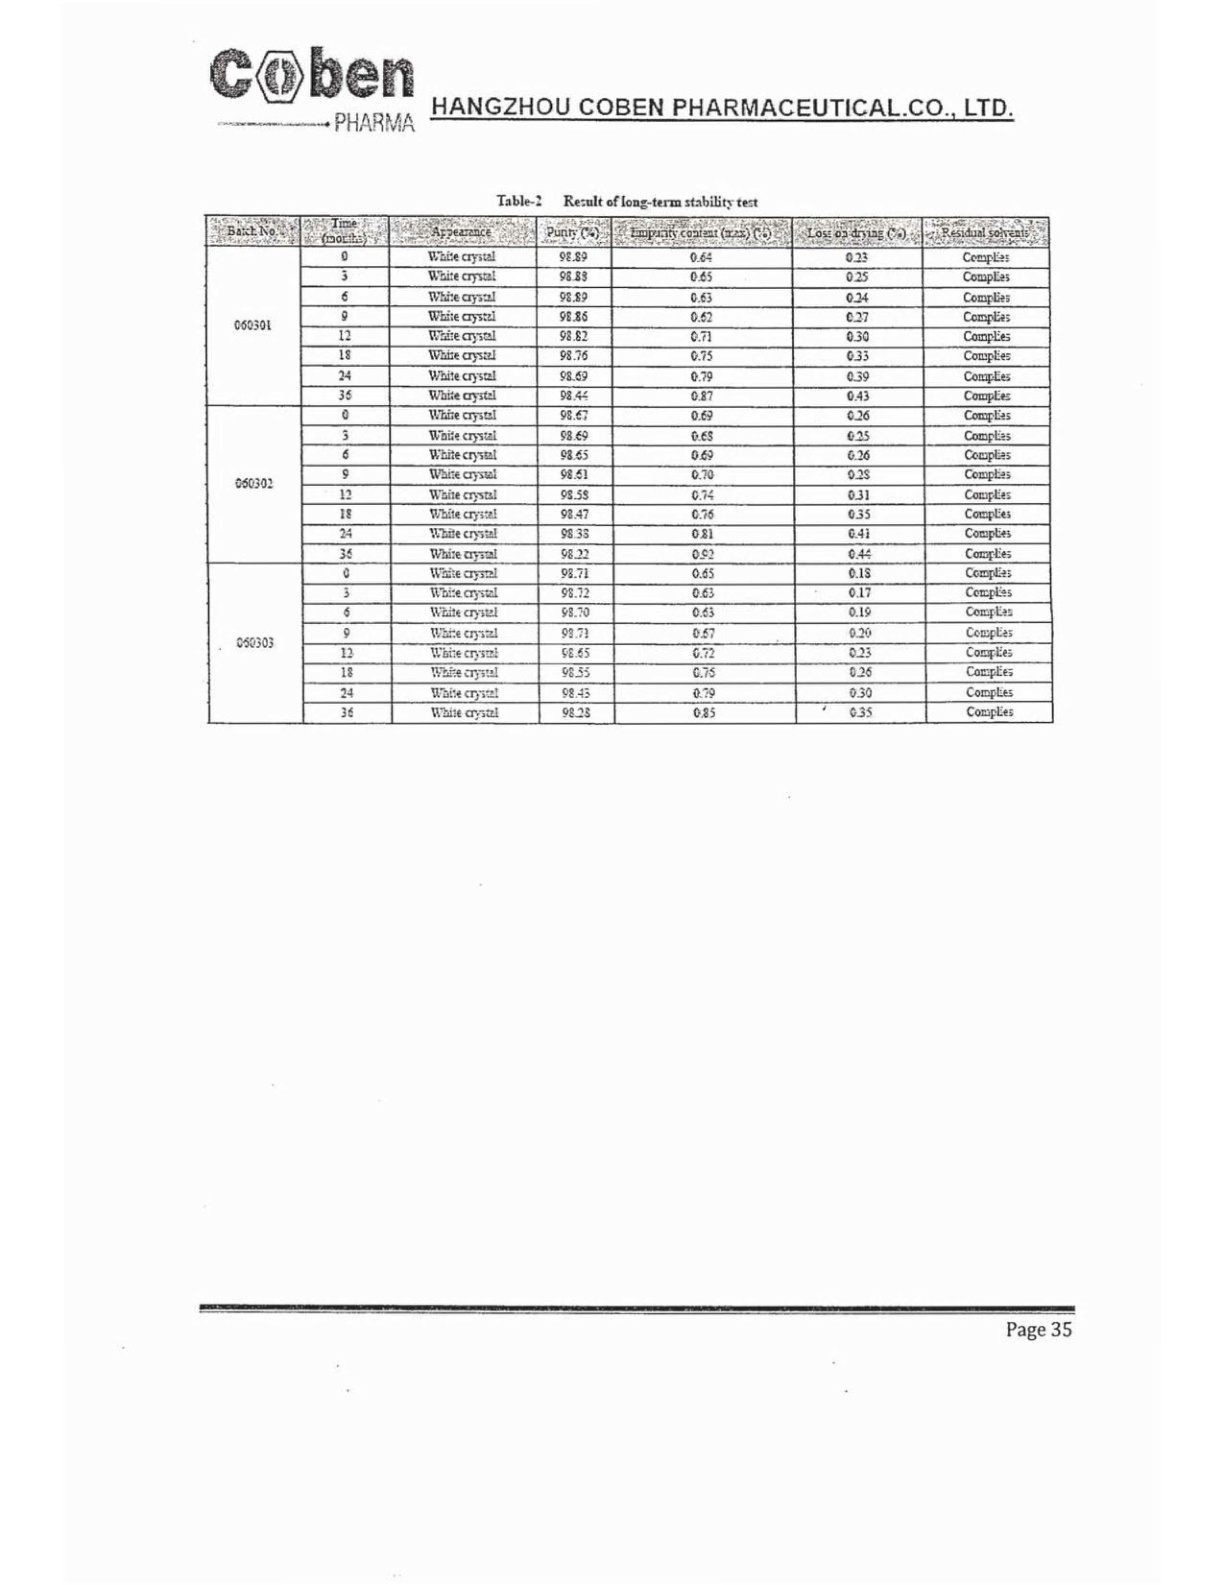merged_cells: (204, 213, 1056, 725)
